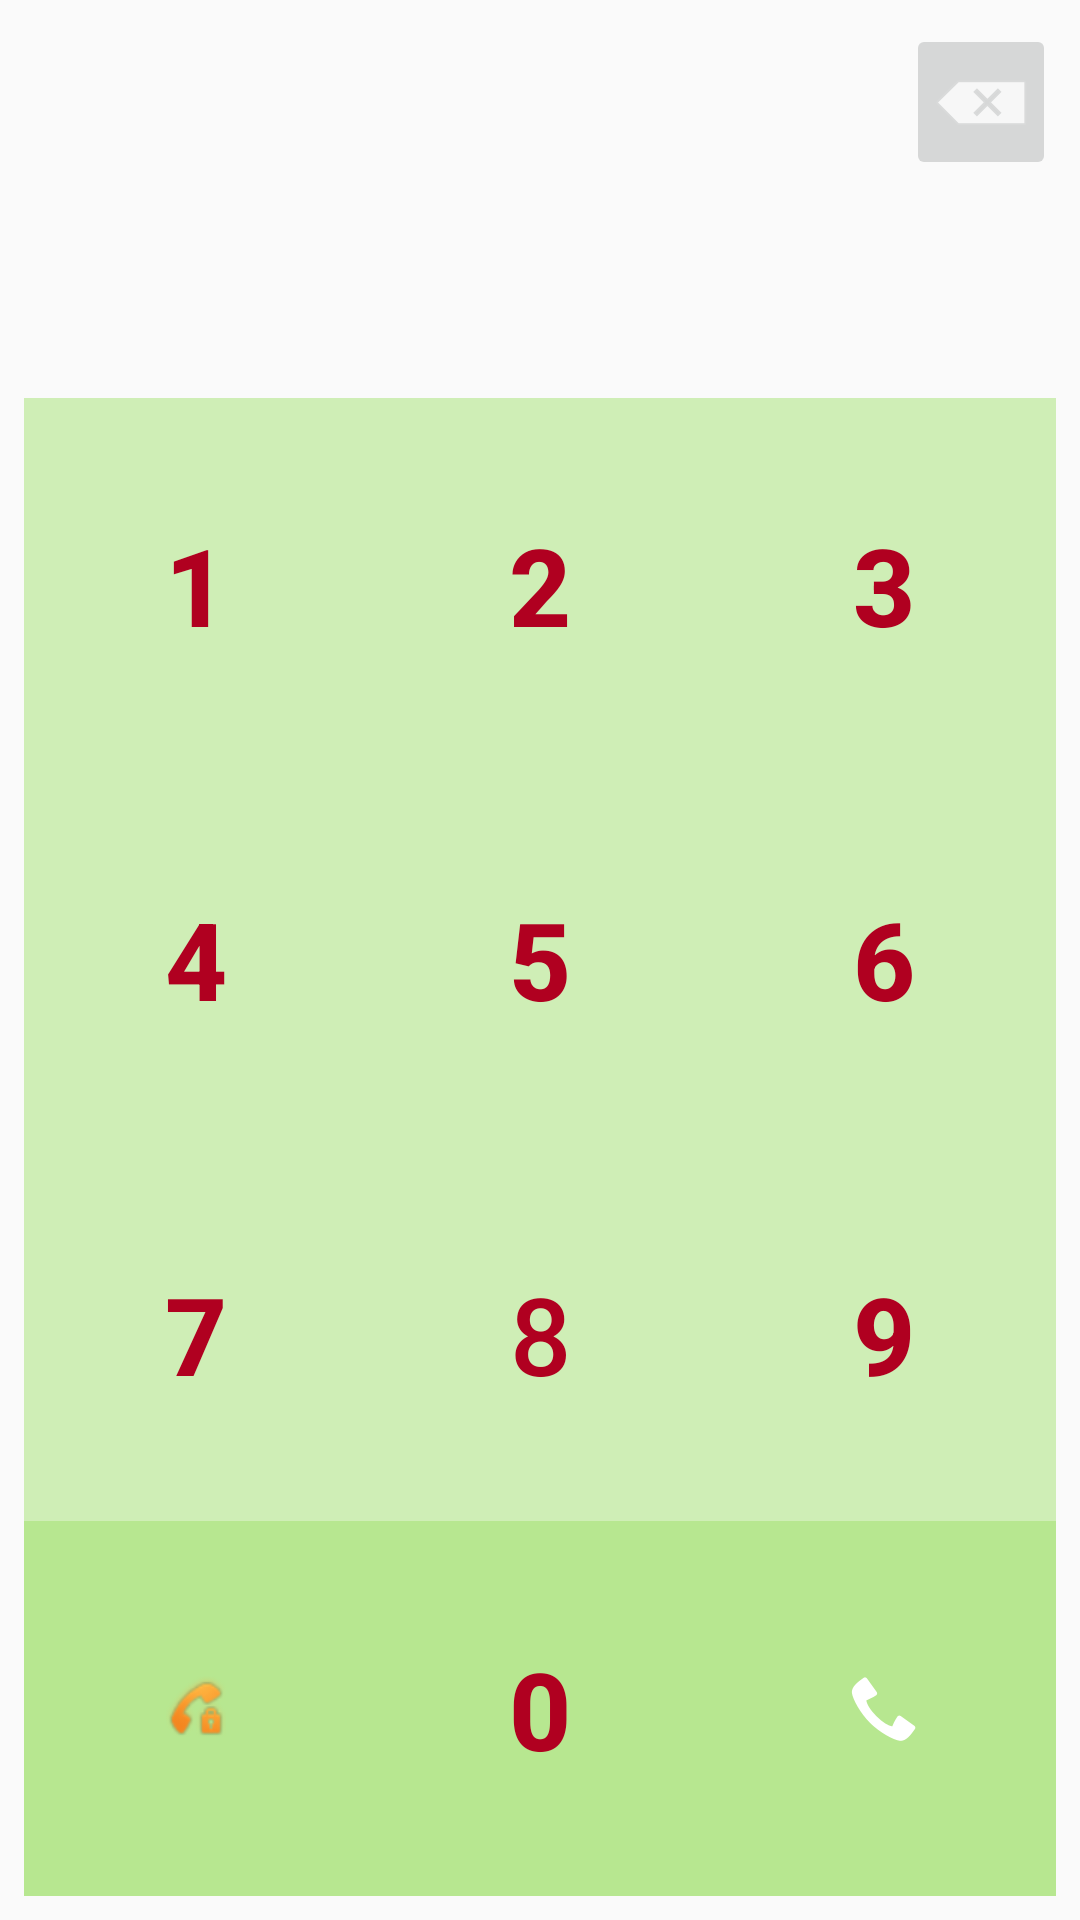

Locate icon controls on the screen. Image size 1080x1920, boxes as Rect(x1, y1, x2, y2).
delete: Rect(918, 42, 1044, 162)
phone call: Rect(852, 1677, 916, 1741)
phone call on hold: Rect(170, 1682, 222, 1735)
